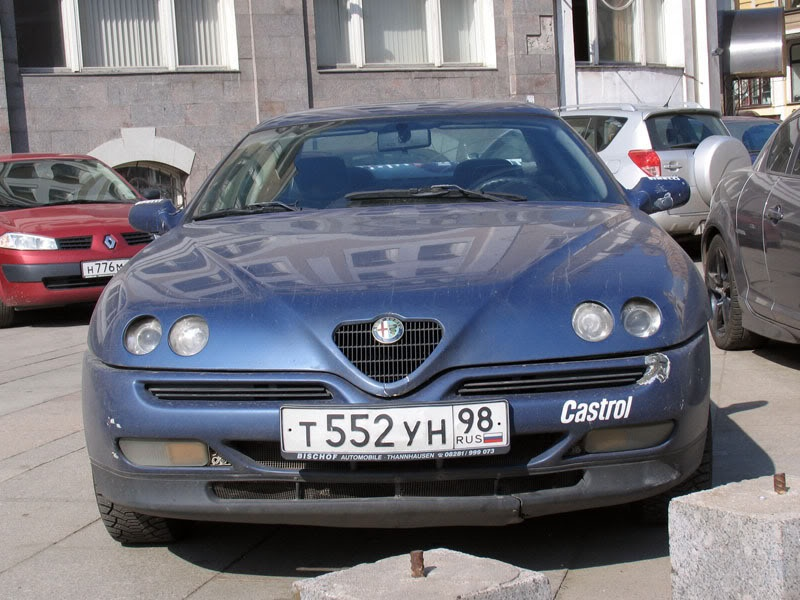car: (81, 102, 711, 546), (550, 107, 753, 236), (1, 152, 160, 311), (701, 106, 800, 354)
plate: (280, 401, 507, 451), (79, 259, 129, 277)
